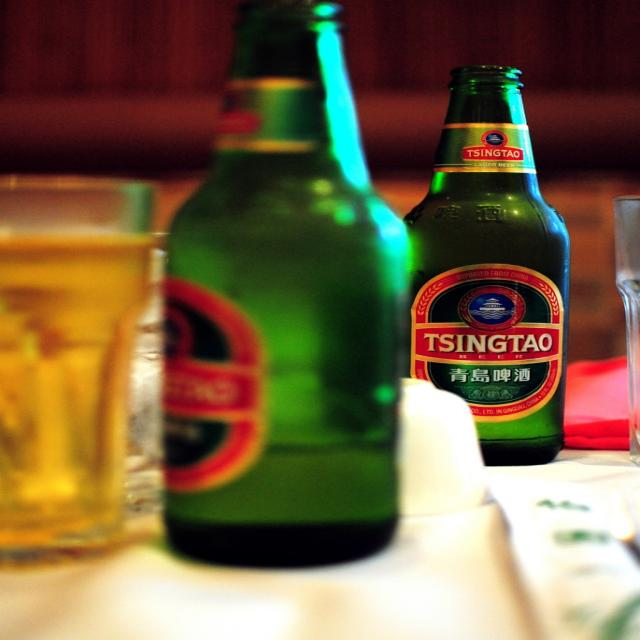tsingtao: (412, 264, 564, 424), (458, 131, 530, 164)
